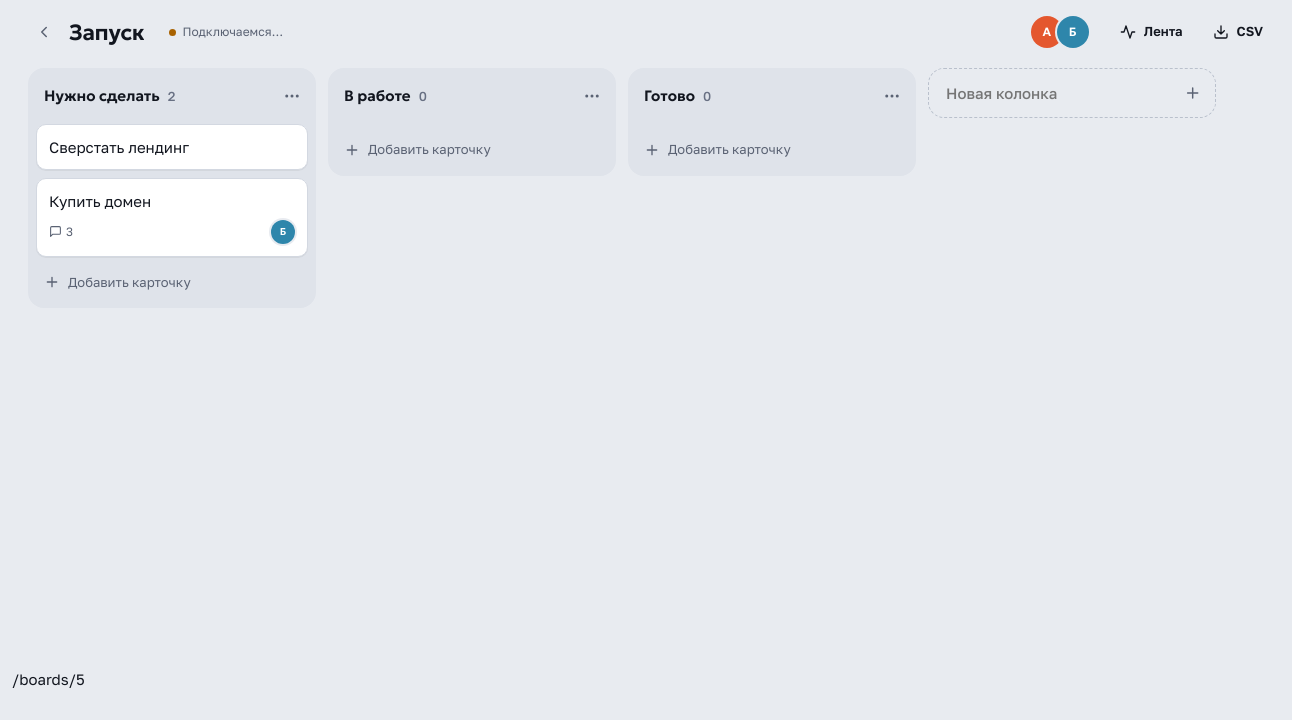
Test: новая карточка добавляется в колонку
The width and height of the screenshot is (1292, 720).
Expected: the text "Сверстать лендинг" is shown, [49,138,189,156]
Click the button "Добавить карточку" below "Нужно сделать" at (172, 282), box [36,264,308,300]
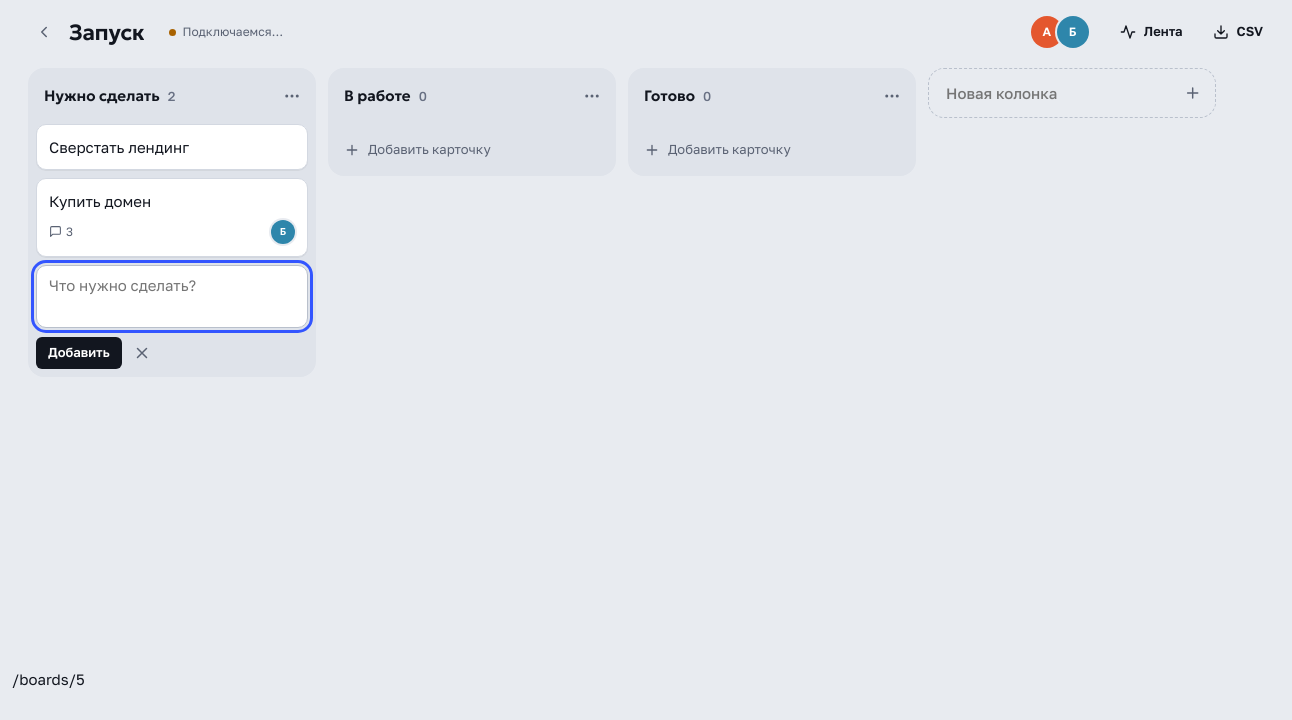
Type "Подключить оплату" into the text box named "Название новой карточки" at (172, 296), box [36,264,308,328]
Then press Enter
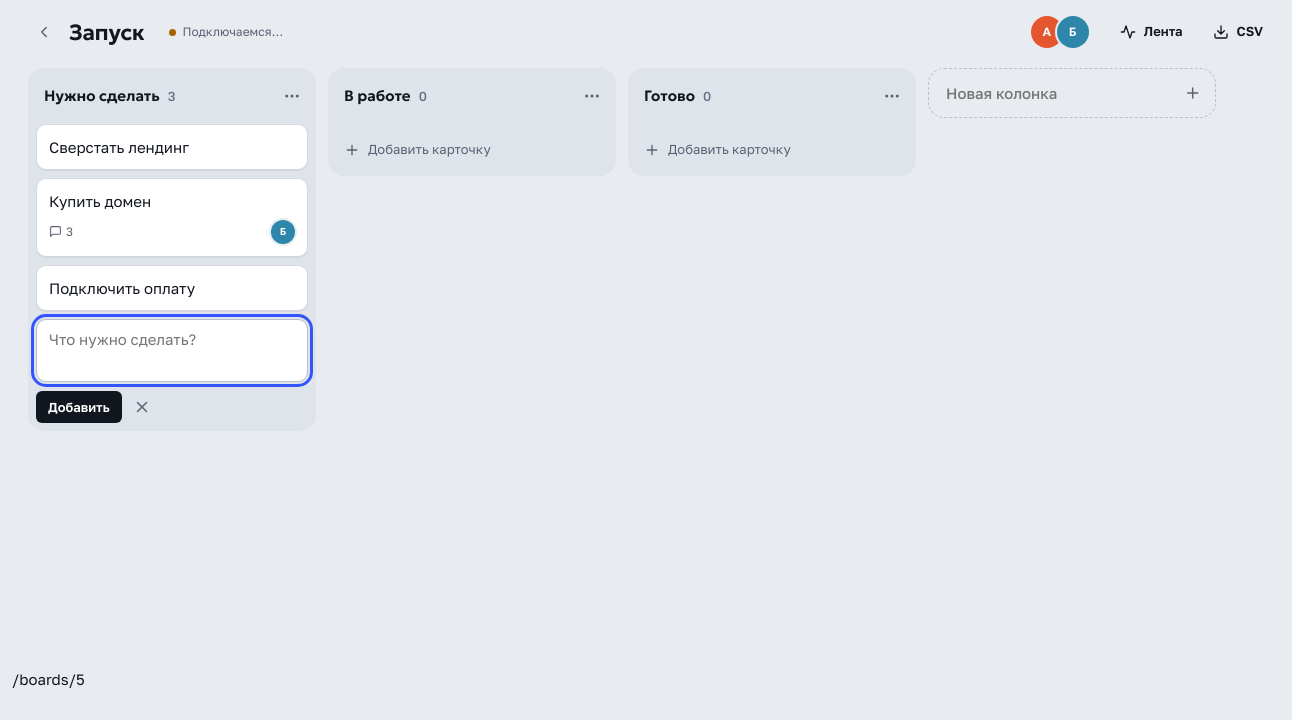
Expected: the text "Подключить оплату" is shown, [49,278,195,296]
